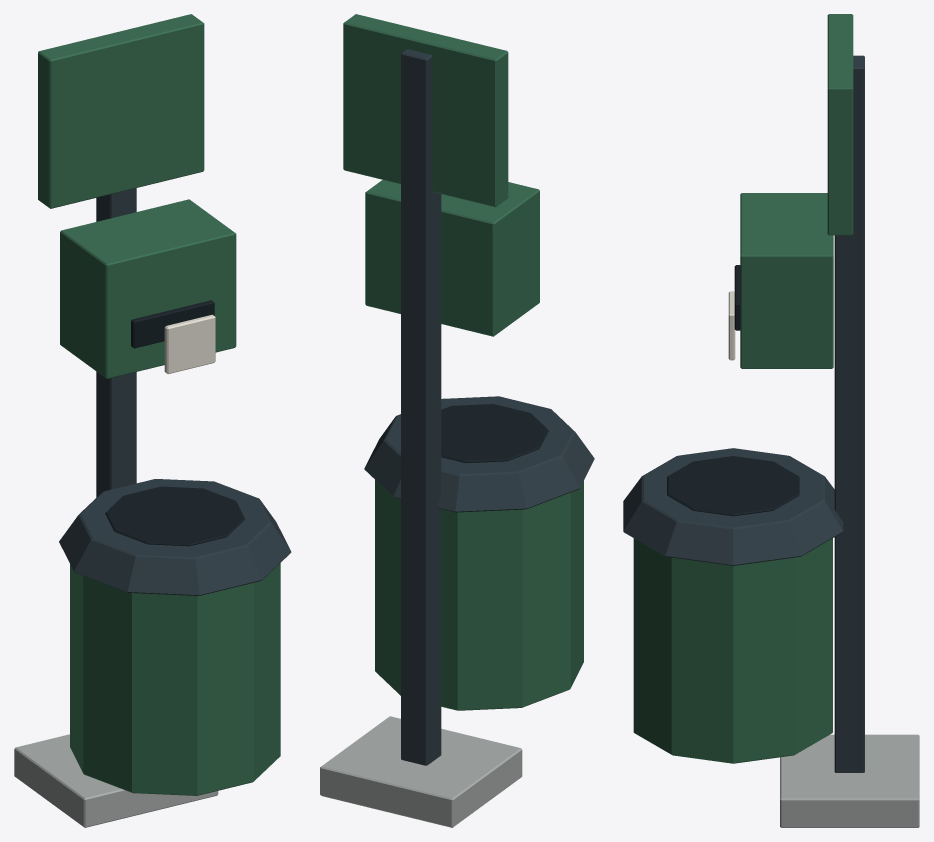
Rendered from b04_dog_waste_bag_and_bin_station.glb.
The picture shows the model from 3 angles, left to right: view 1: azimuth 30°, elevation 25°; view 2: azimuth 150°, elevation 25°; view 3: azimuth 270°, elevation 25°; orthographic projection.
Parts seen in each view (by area): view 1: b04_dog_waste_bag_and_bin_station; view 2: b04_dog_waste_bag_and_bin_station; view 3: b04_dog_waste_bag_and_bin_station.
Part boxes in pixels (x1,y1,x2,y2): b04_dog_waste_bag_and_bin_station: (14,14,291,827); b04_dog_waste_bag_and_bin_station: (320,14,594,827); b04_dog_waste_bag_and_bin_station: (623,14,919,827).
Size of the model in its own units: 0.4967 by 1.76 by 0.6362.
